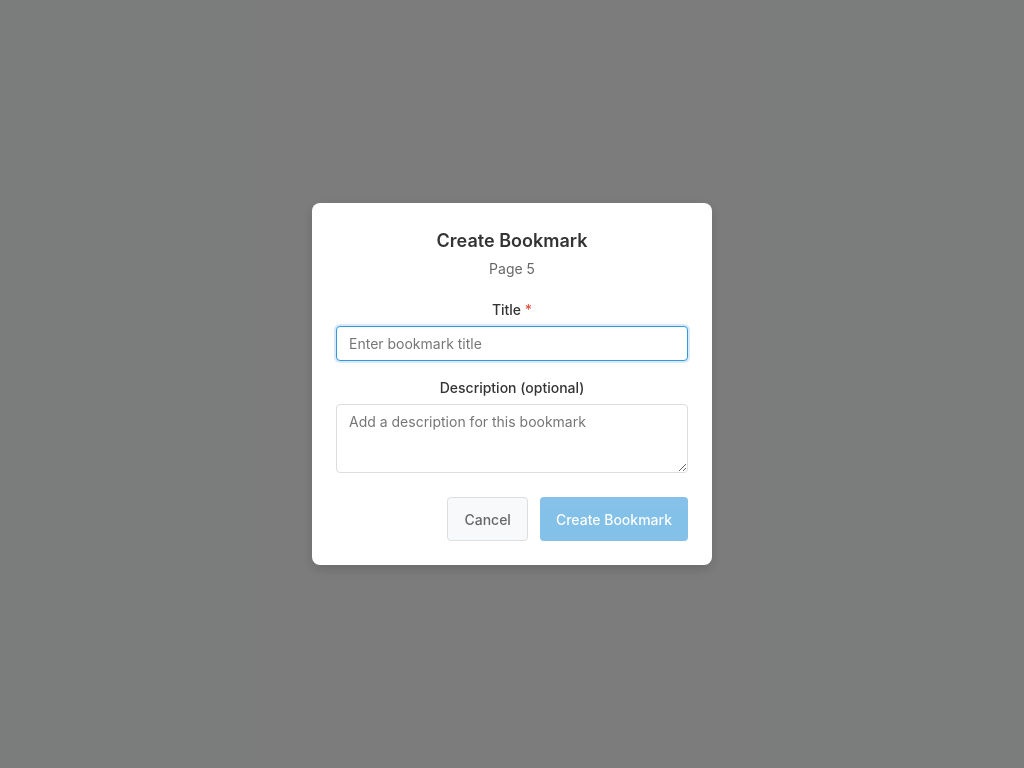
BookmarkCreator › clears form fields when cancelled
Type "Test Title" into the field labelled "Title *" at point(512, 344), box top-left (336, 326), bottom-right (688, 361)
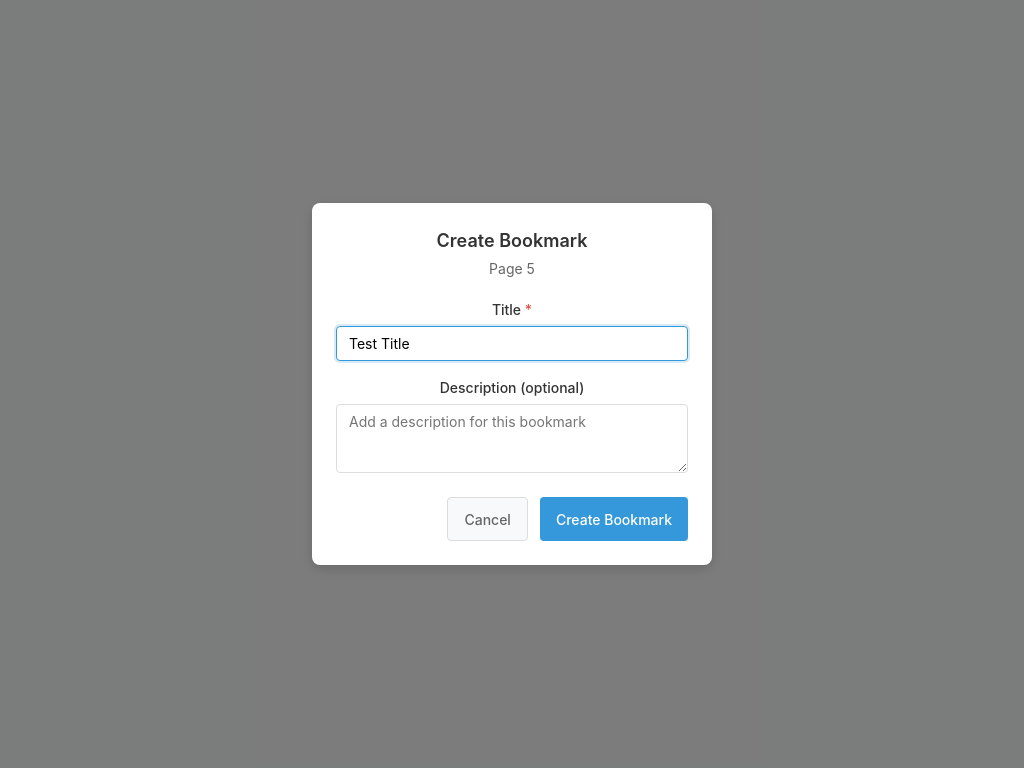
Type "Test Description" into the text box labelled "Description (optional)" at point(512, 438), box top-left (336, 404), bottom-right (688, 473)
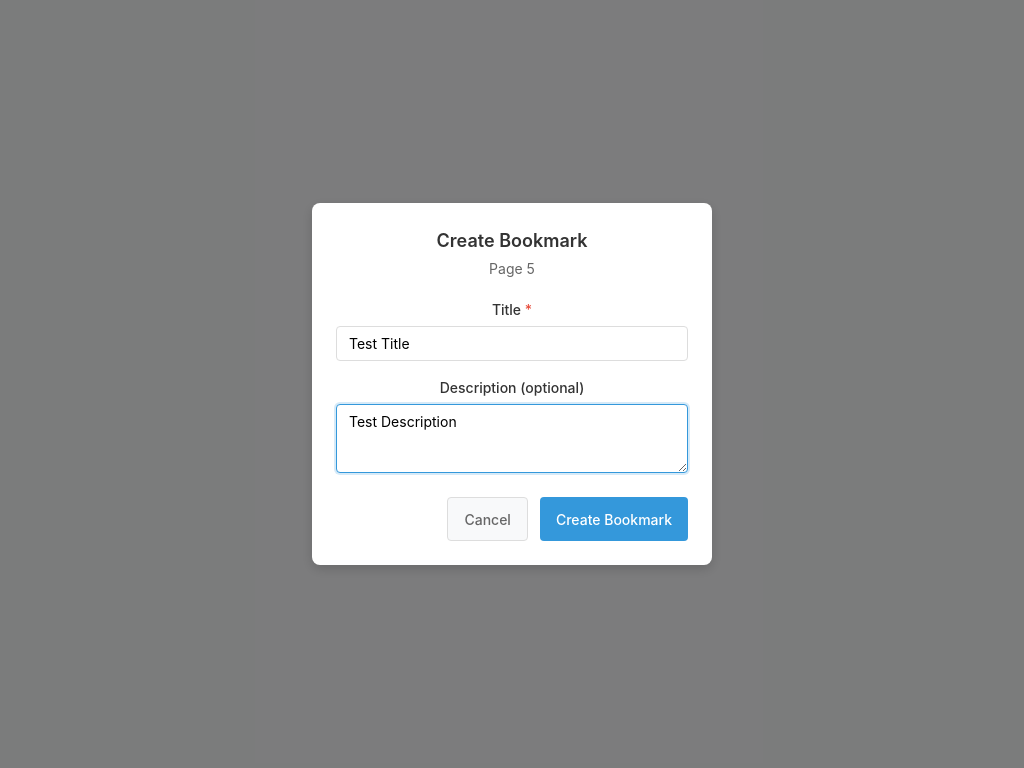
Click the button "Cancel" at point(488, 519), box top-left (447, 497), bottom-right (528, 541)
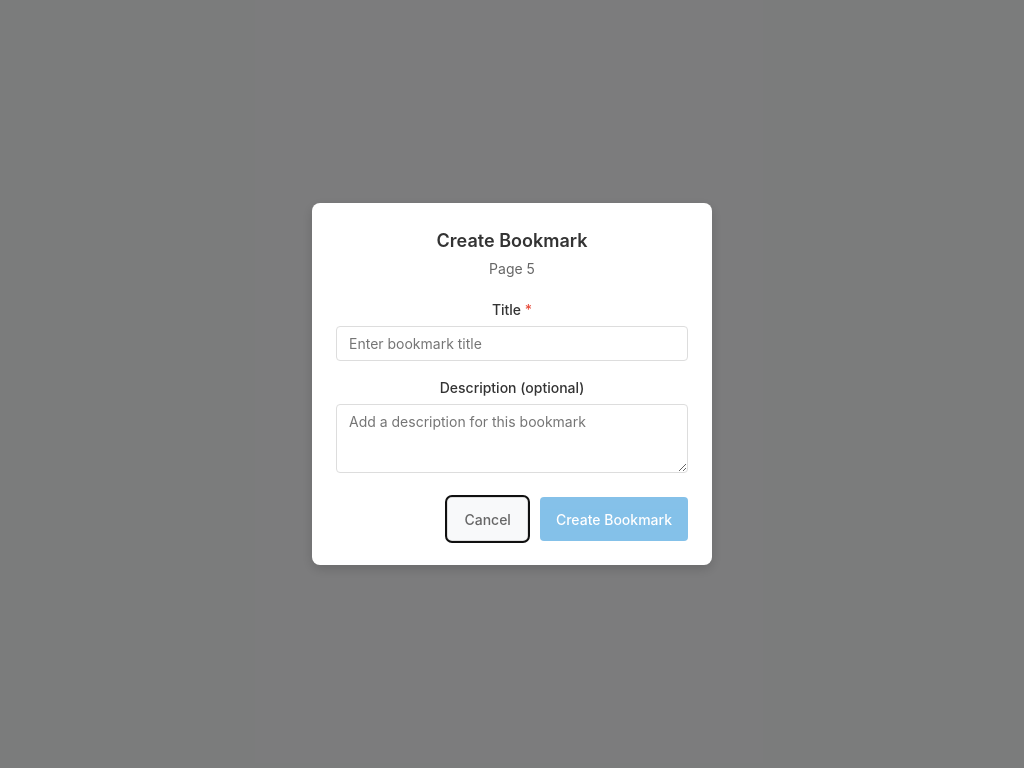
expect the field labelled "Title *" is empty: met, box top-left (336, 326), bottom-right (688, 361)
expect the text box labelled "Description (optional)" is empty: met, box top-left (336, 404), bottom-right (688, 473)
